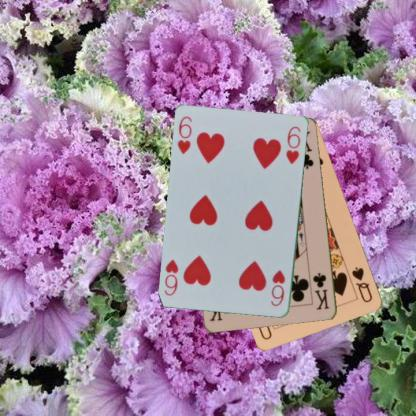6h: (175, 114, 194, 155), (268, 268, 287, 308)
Kc: (311, 270, 330, 312)
Qs: (349, 264, 374, 304)
